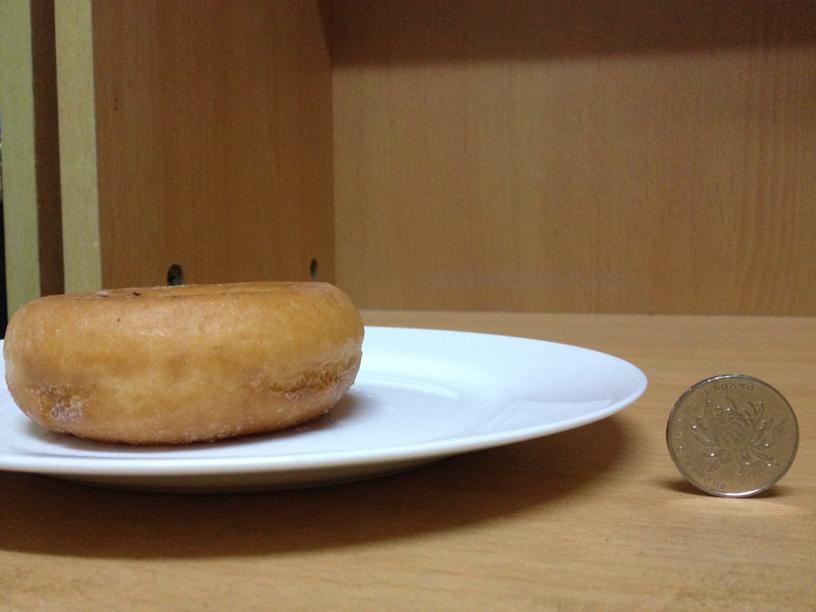coin: (667, 373, 799, 497)
doughnut: (11, 281, 362, 444)
